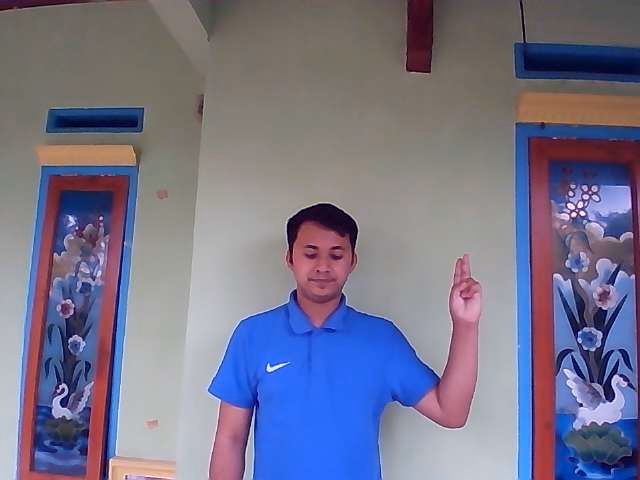U: (448, 253, 482, 320)
